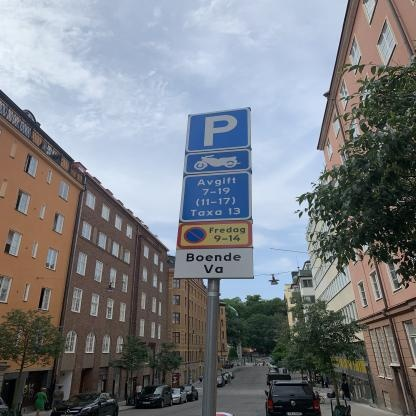P-skylt: (181, 105, 254, 154)
